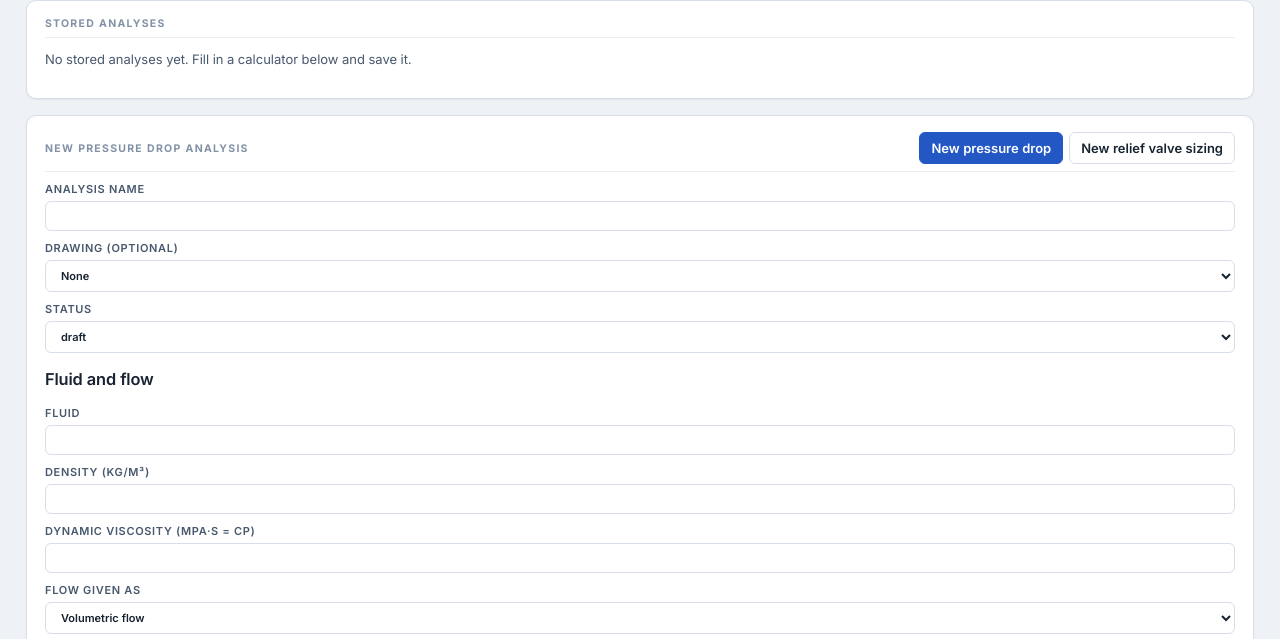
Test: AnalysisPage › sizes a gas relief valve and shows the orifice
Click the button "New relief valve sizing" at [1152, 148], box [1069,132,1235,164]
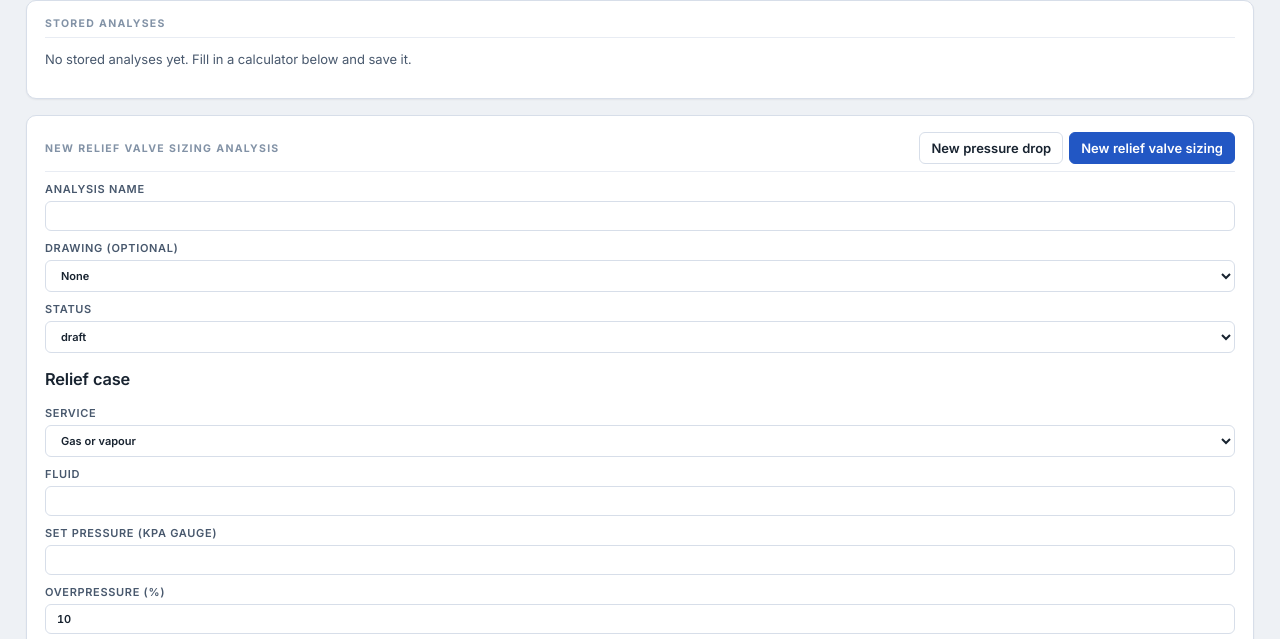
Type "517" into the field labelled "Set pressure (kPa gauge)" at [640, 560], box [45,545,1235,575]
(page scrolled)
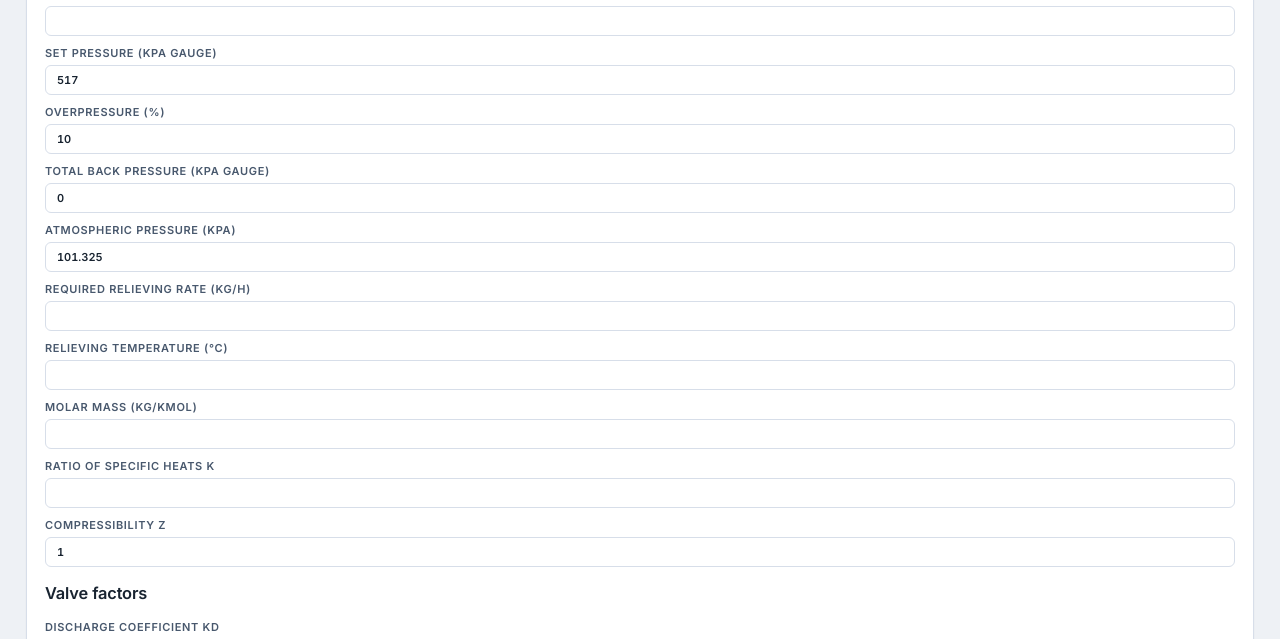
Type "24270" into the field labelled "Required relieving rate (kg/h)" at [640, 316], box [45,301,1235,331]
Type "74.85" into the field labelled "Relieving temperature (°C)" at [640, 375], box [45,360,1235,390]
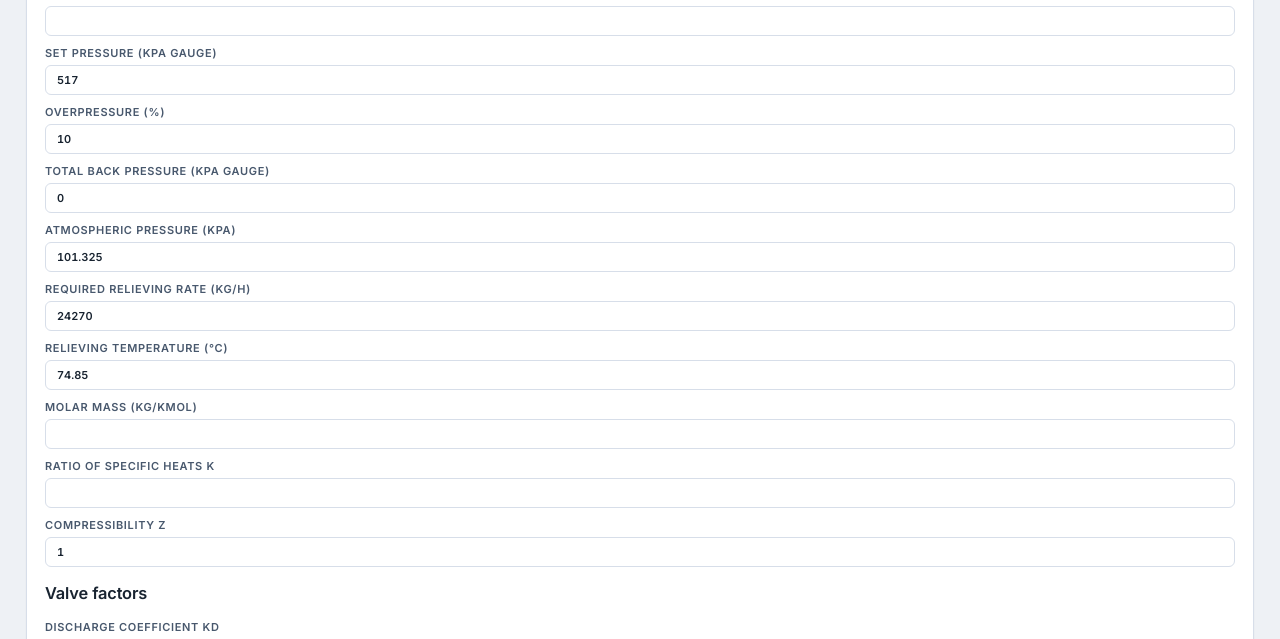
Type "51" into the field labelled "Molar mass (kg/kmol)" at [640, 434], box [45,419,1235,449]
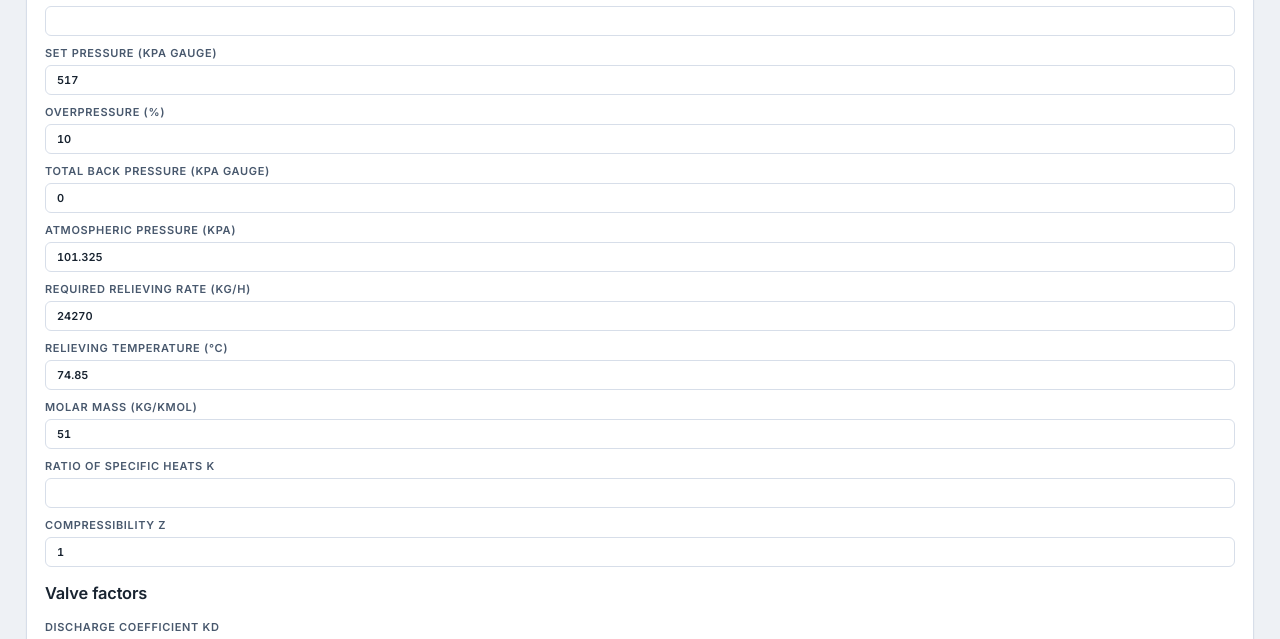
Type "1.11" into the field labelled "Ratio of specific heats k" at [640, 493], box [45,478,1235,508]
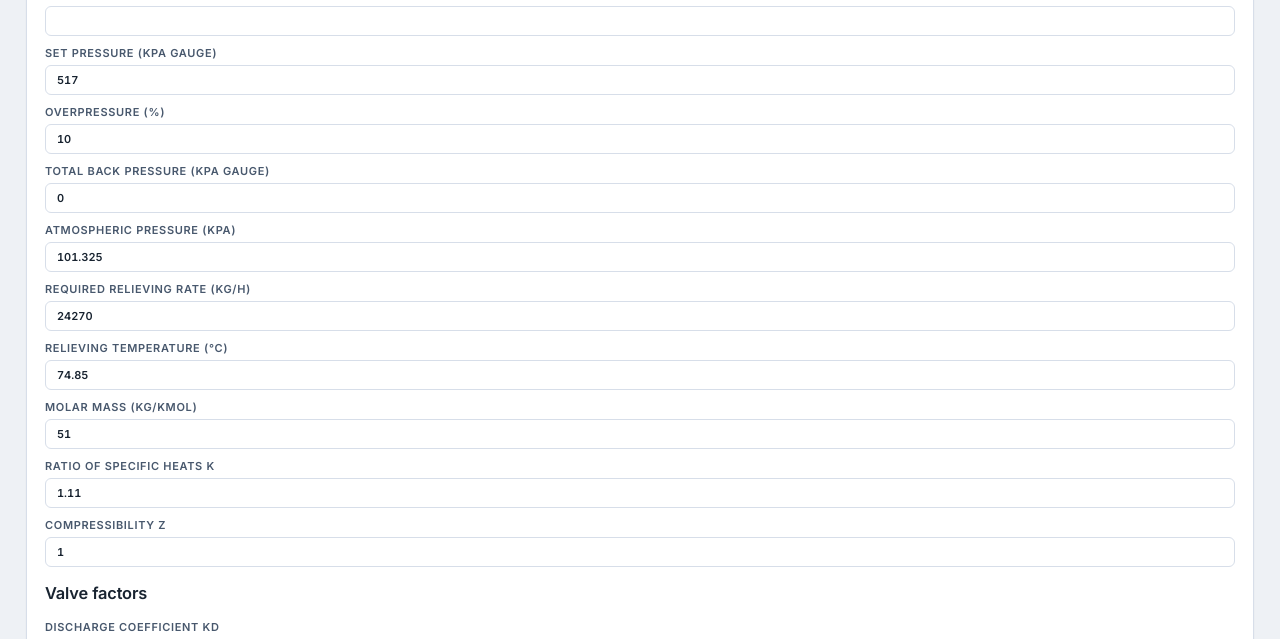
Replace the text in the field labelled "Compressibility Z" with "0.9" at [640, 552], box [45,537,1235,567]
(page scrolled)
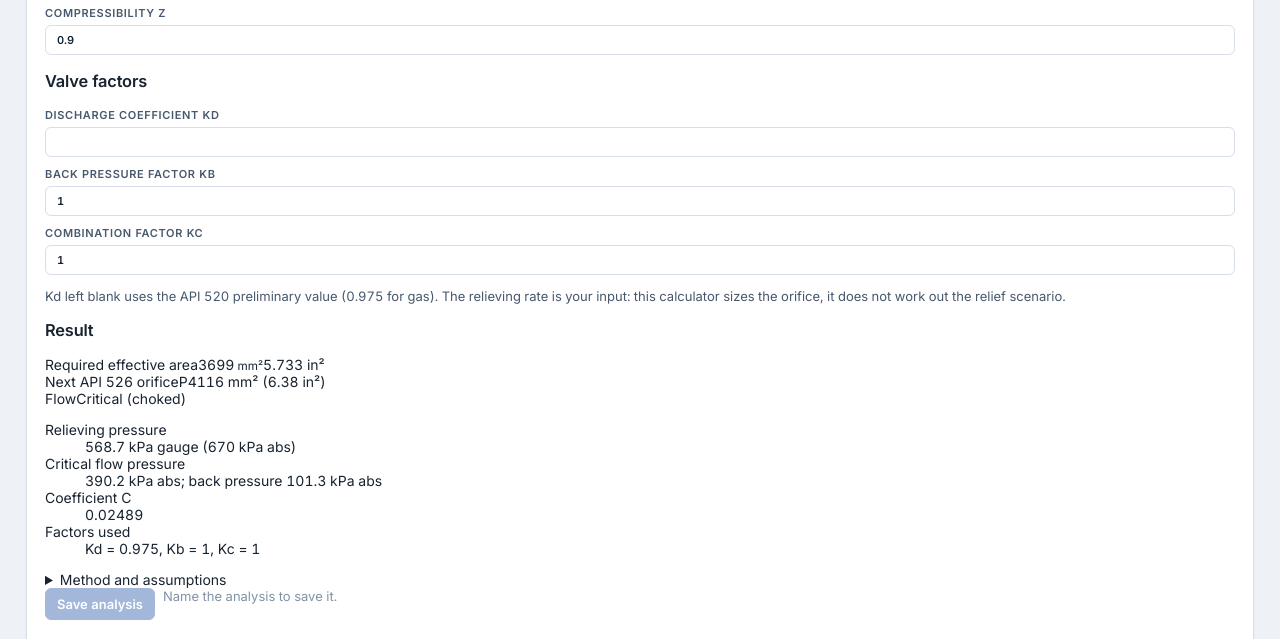
Result: the text "Required effective area" is shown at [45,356,198,373]
Result: the text "3699" is shown at [198,356,234,373]
Result: the text "5.733 in²" is shown at [263,356,325,373]
